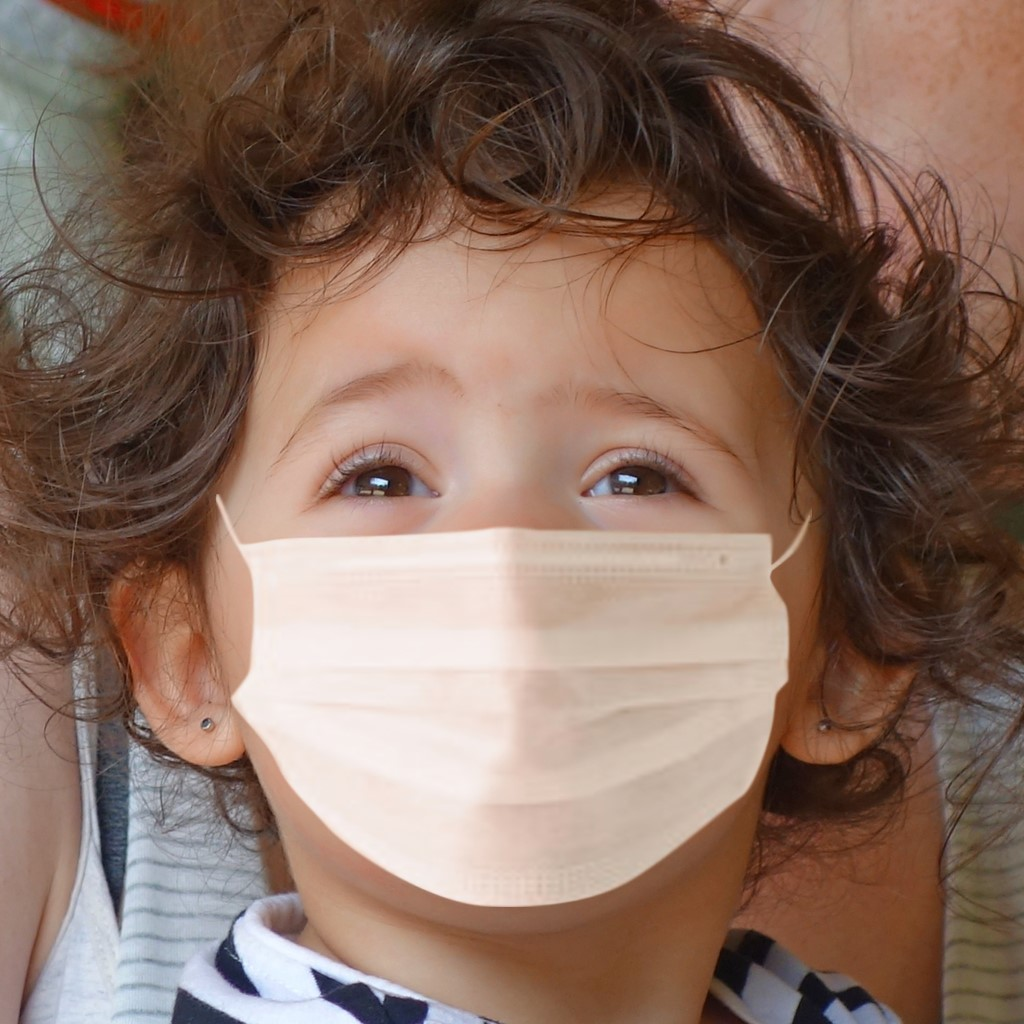con_mascara: (211, 175, 809, 918)
